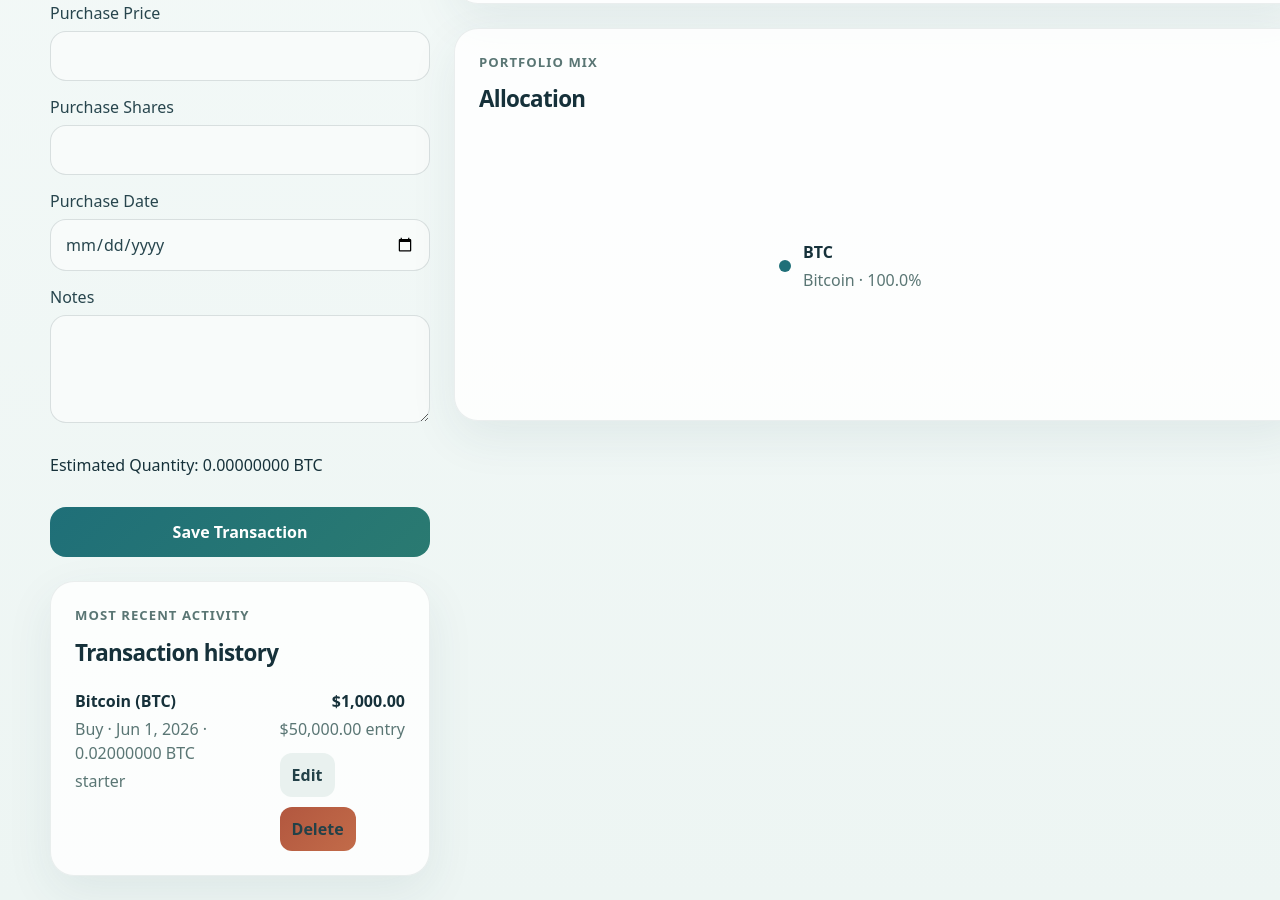
Test: recalculates purchase price inside inline edit when purchase shares is changed
This screenshot has width=1280, height=900.
(page scrolled)
Click the button with aria-label "edit bitcoin".
click(307, 776)  # box 280,754 -> 334,798
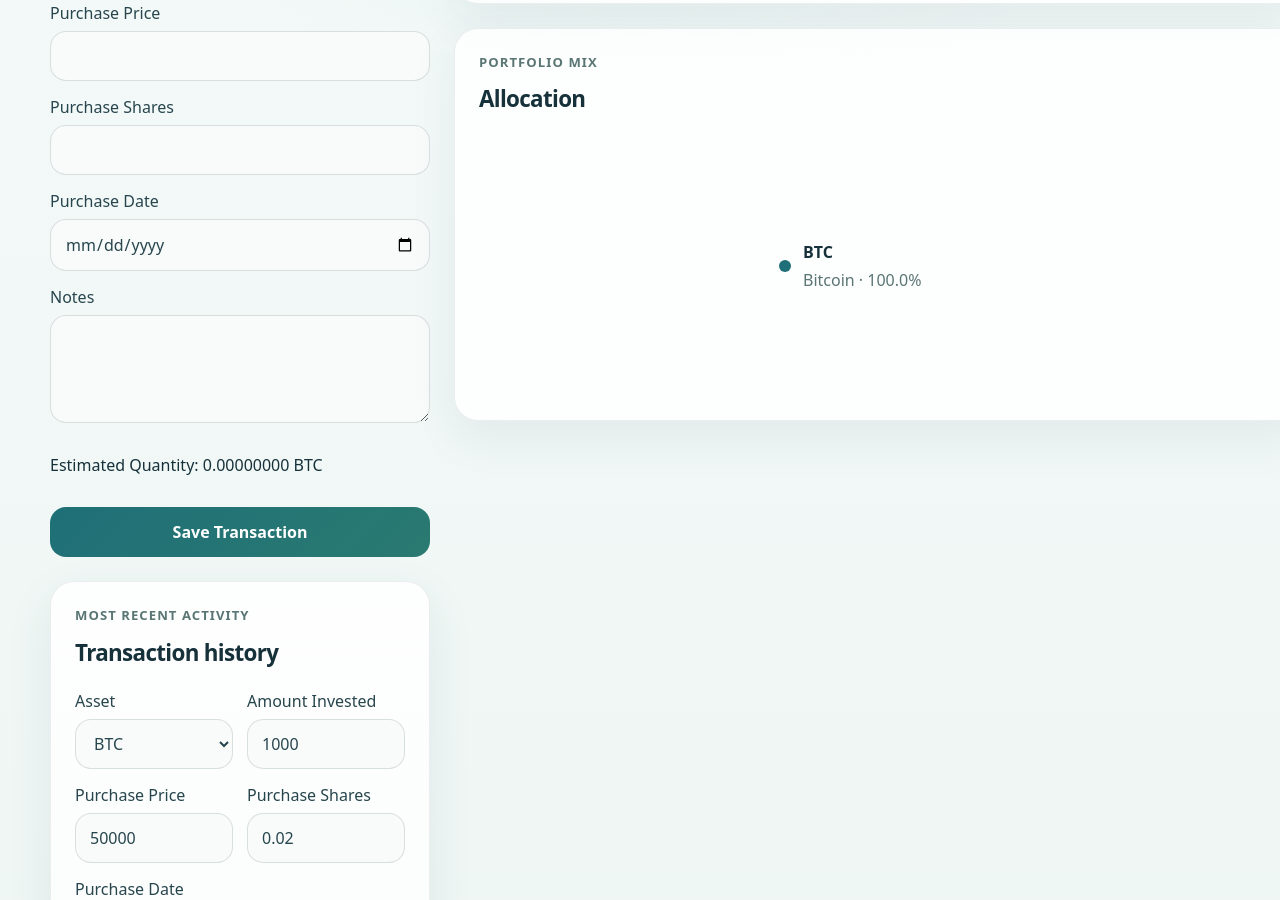
Replace the text in the number field labelled "Purchase Shares" below "Transaction history" with "0.01" at (326, 838), box 247,814 -> 405,864
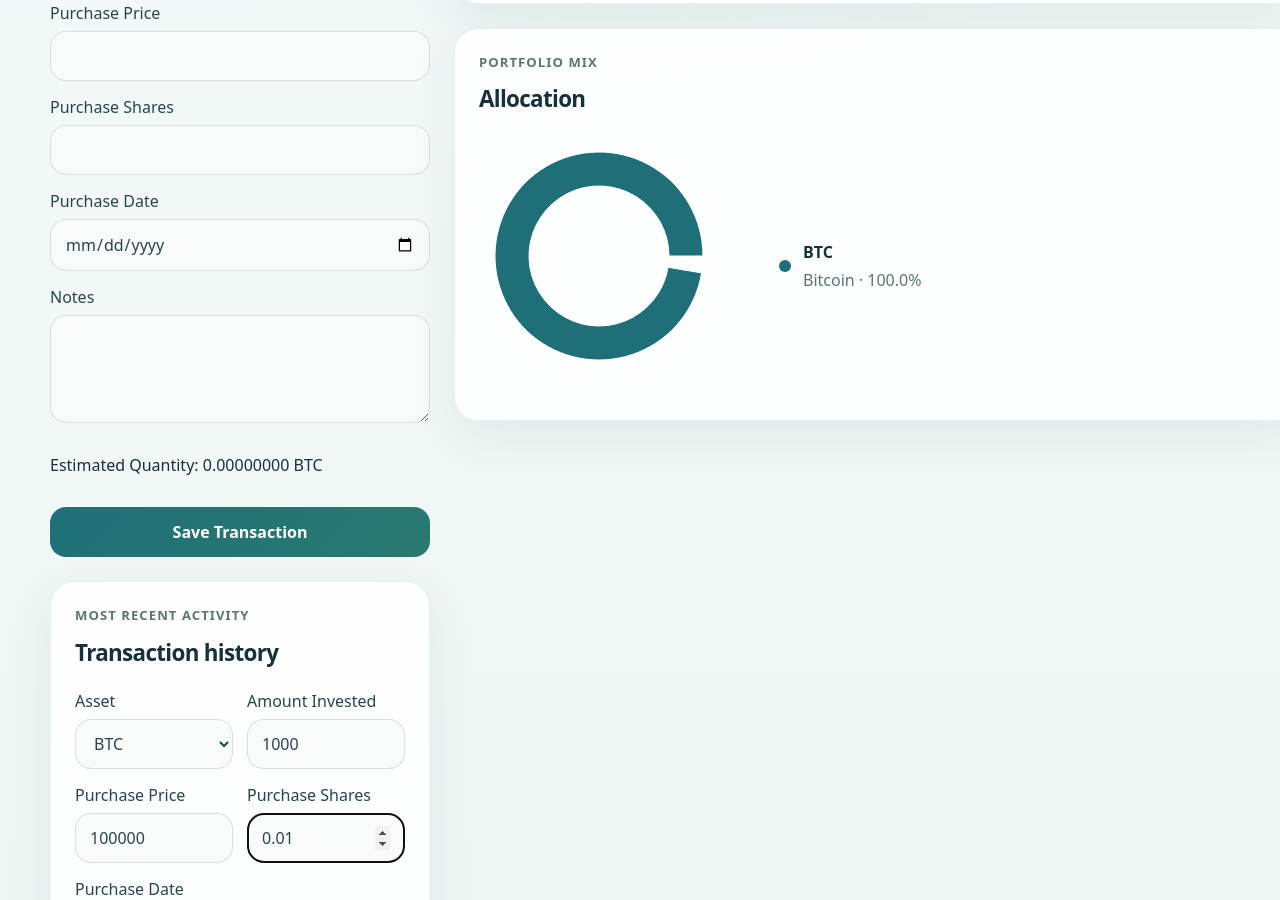
Check: the number field labelled "Purchase Price" below "Transaction history" holds "100000", box 75,814 -> 233,864
